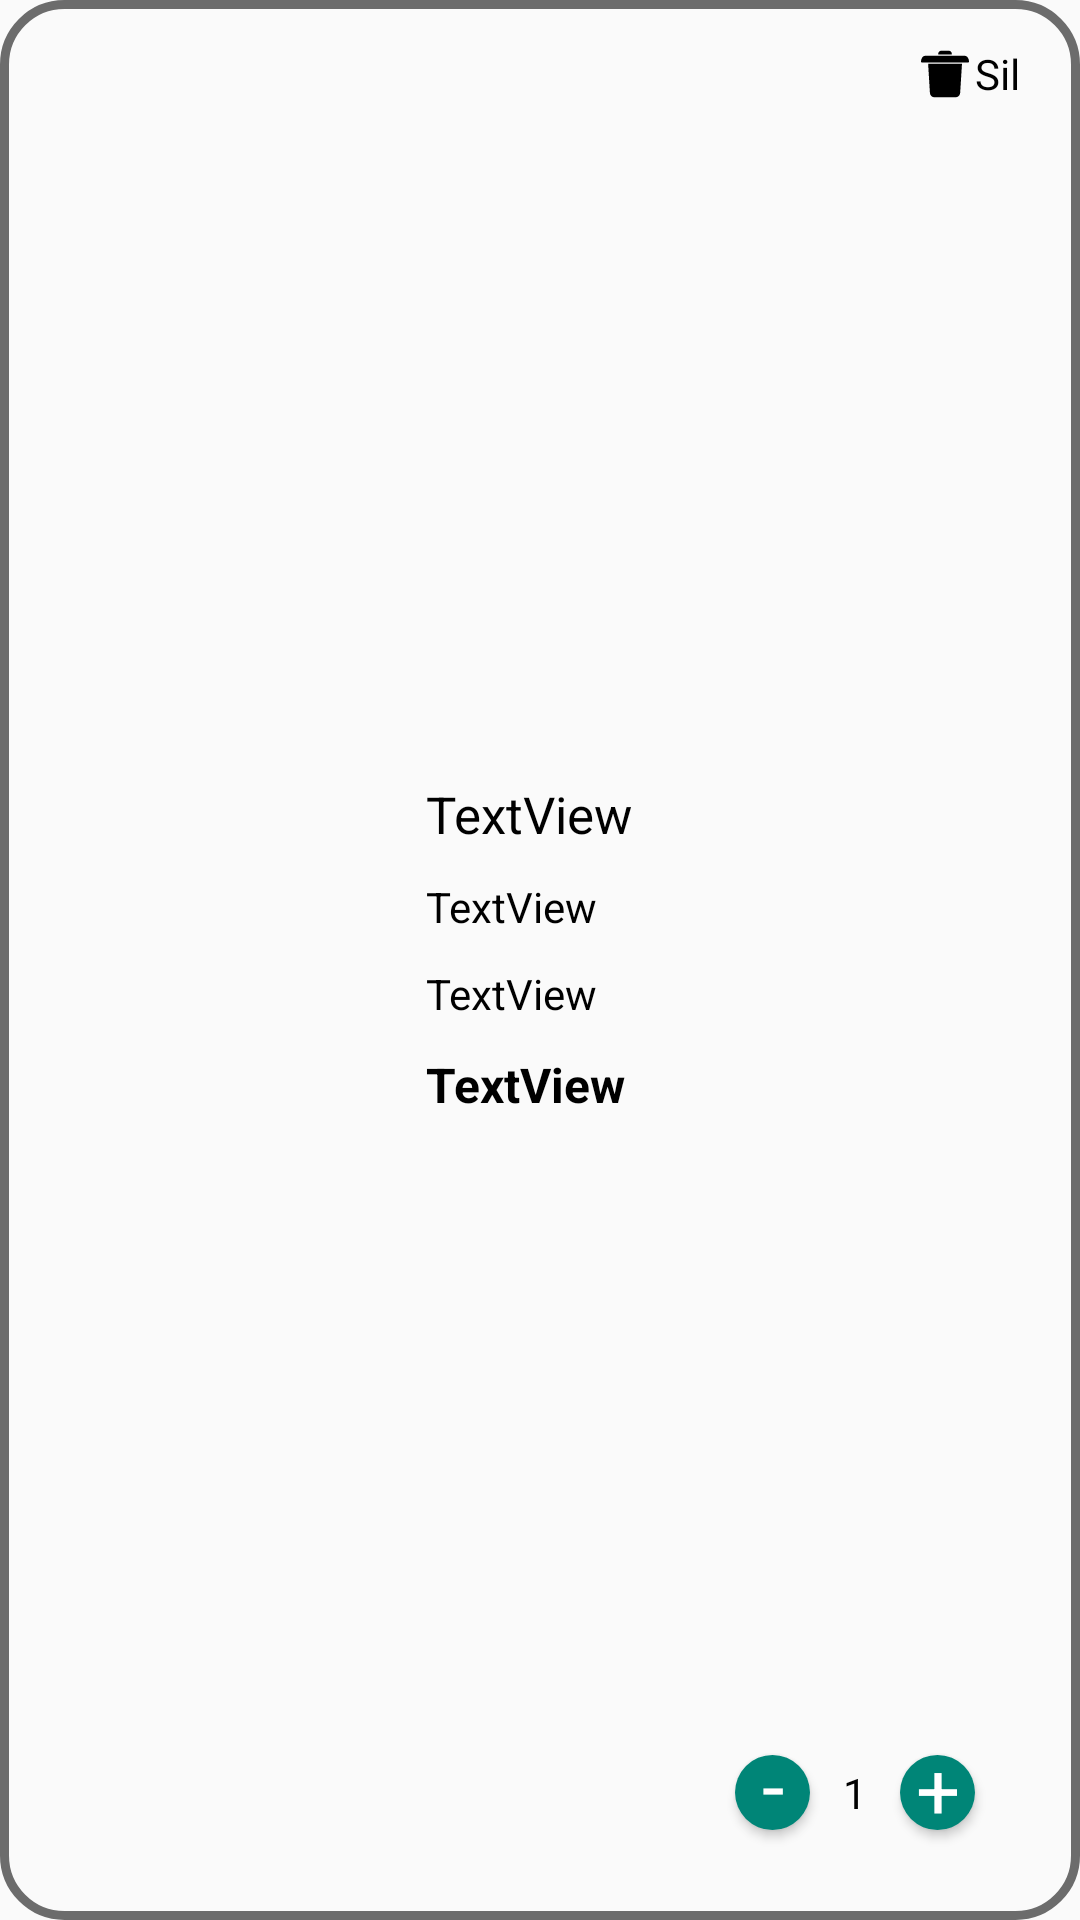

Icon bounding boxes for this 1080px×1920px phone screenshot, format (x1, y1, x2, y2):
dustbin: (921, 50, 969, 98)
